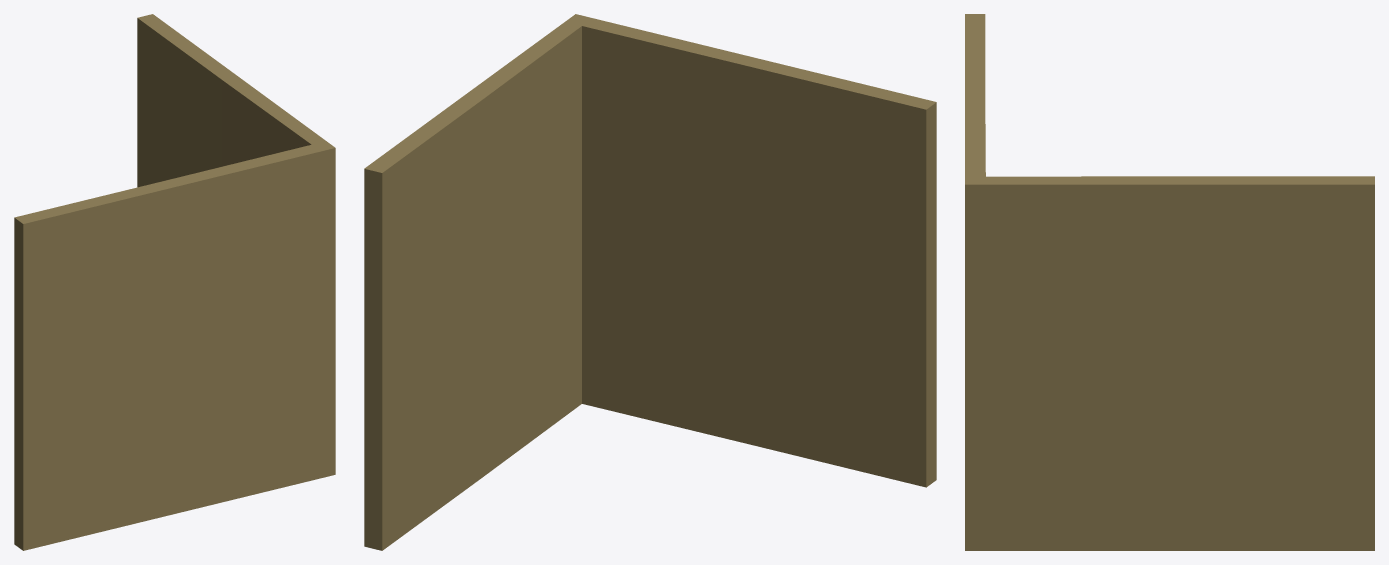
File: MOD_Corner_Wall.fbx
3 views of the same model, side by side, from view 1: azimuth 30°, elevation 25°; view 2: azimuth 150°, elevation 25°; view 3: azimuth 270°, elevation 25° (orthographic). The views are drawn at different scales.
Visible parts, largest first — view 1: Wall Corner; view 2: Wall Corner; view 3: Wall Corner.
Boxes of the visible parts, left/top/right/bottom form: Wall Corner: left=14, top=14, right=335, bottom=550; Wall Corner: left=364, top=14, right=936, bottom=550; Wall Corner: left=965, top=14, right=1374, bottom=550.
Size of the model in its own units: 200 by 200 by 203.
